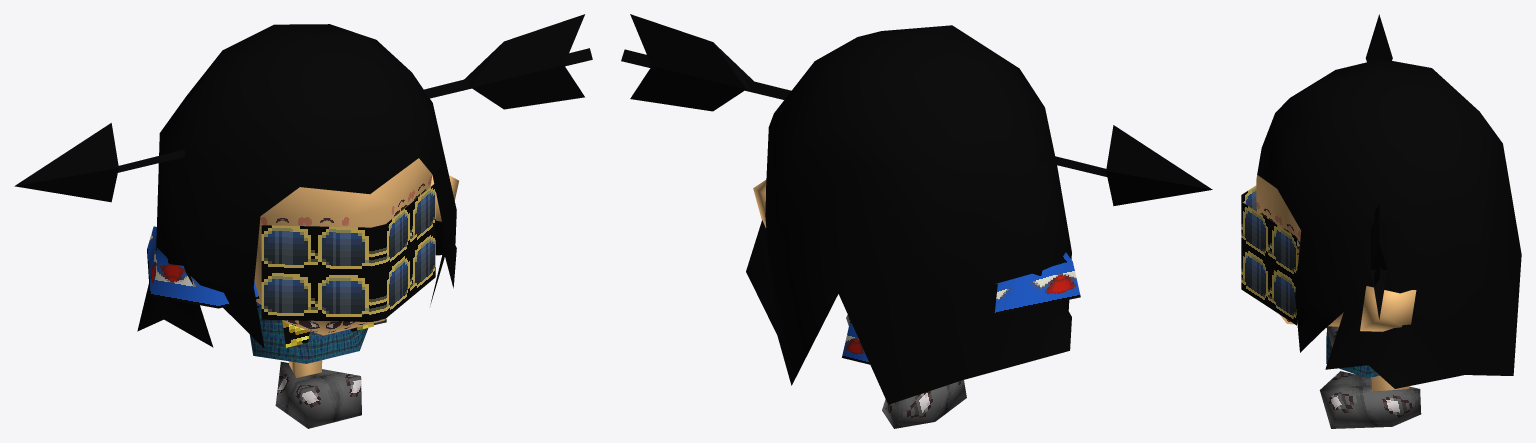
3 views of the same model, side by side, from view 1: azimuth 30°, elevation 25°; view 2: azimuth 150°, elevation 25°; view 3: azimuth 270°, elevation 25° (orthographic). The views are drawn at different scales.
Parts seen in each view (by area): view 1: pmd46_00_04; view 2: pmd46_00_04; view 3: pmd46_00_04.
Part boxes in pixels (x1=…): pmd46_00_04: x1=14, y1=14, x2=592, y2=428; pmd46_00_04: x1=621, y1=14, x2=1212, y2=428; pmd46_00_04: x1=1241, y1=14, x2=1521, y2=428.
Bounding box in the file's own units: 2.16 × 1.32 × 0.9778.
8 materials, 8 textured.
